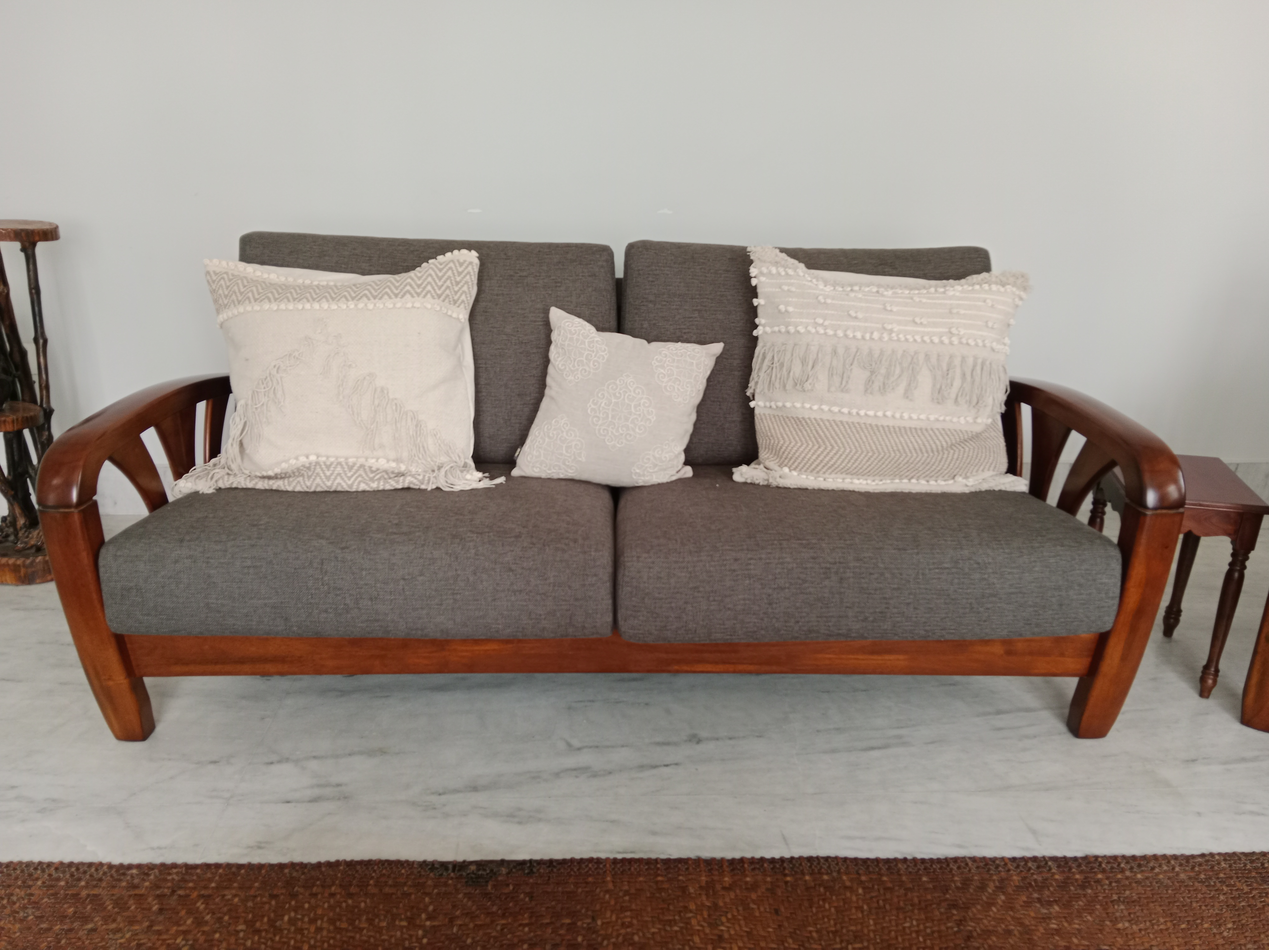sofa: (32, 228, 1176, 743)
